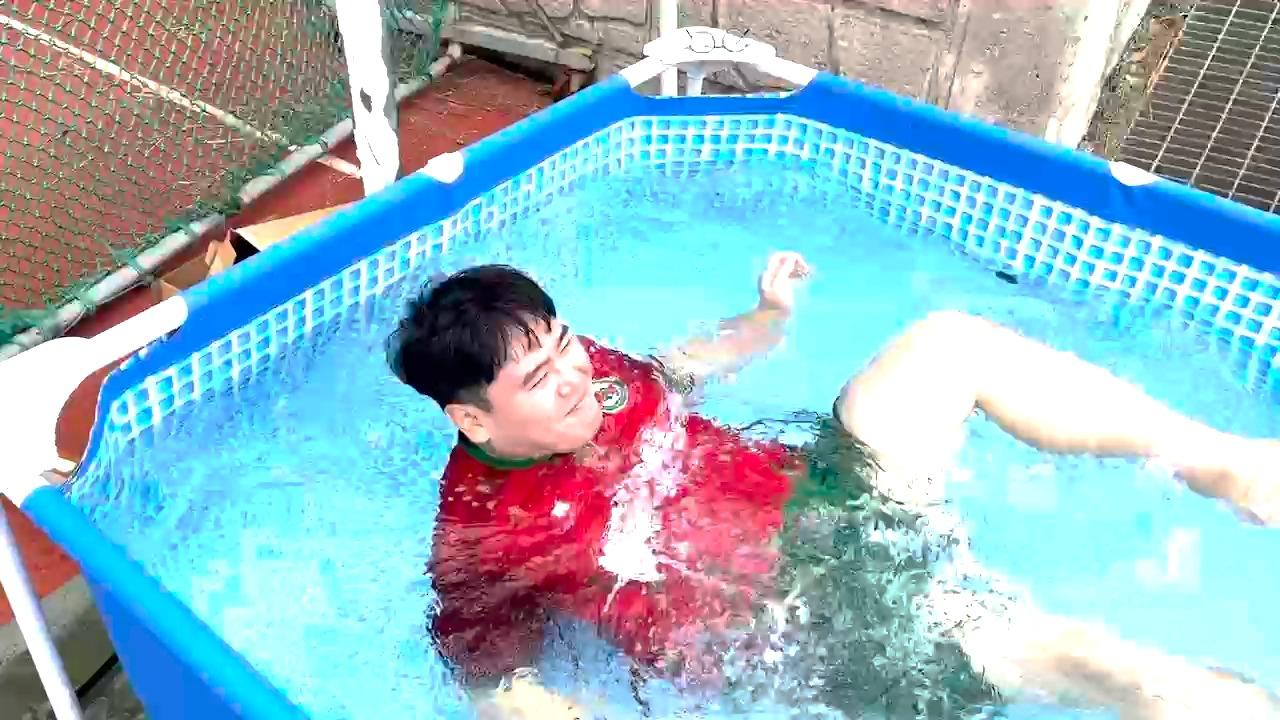Drowning: (355, 225, 1226, 720)
